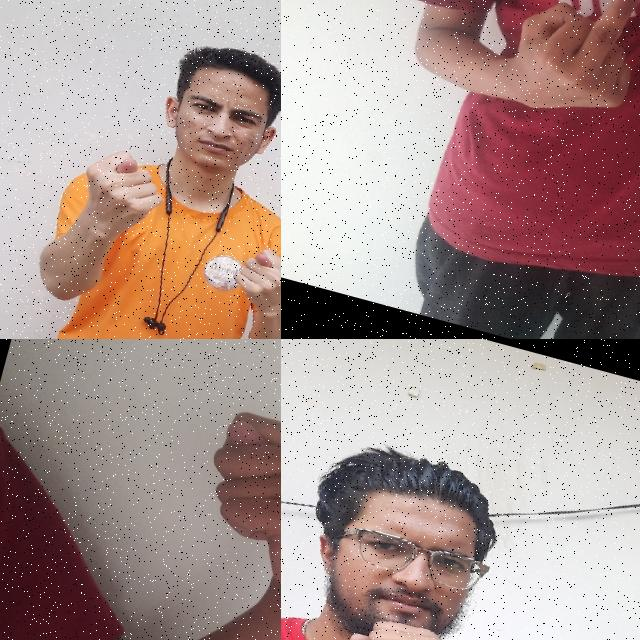Dulya: (178, 392, 281, 619), (65, 134, 178, 254), (214, 228, 281, 330)
Fist Mouth: (281, 431, 532, 640)
Middle Finger: (468, 0, 640, 147)
